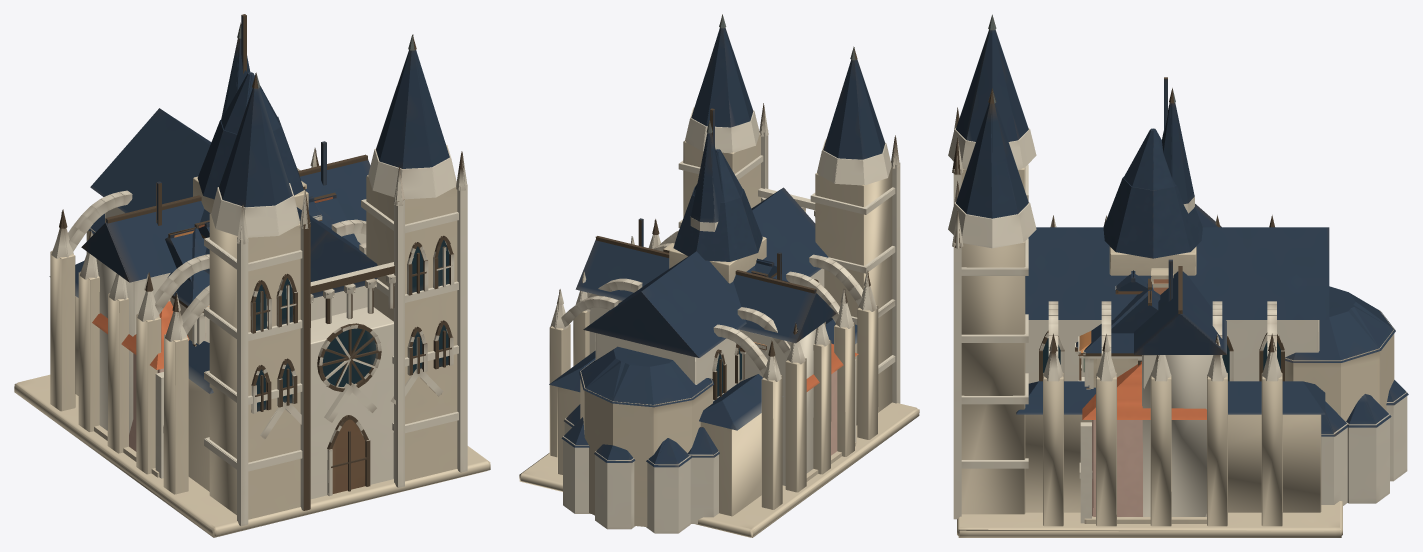
Rendered from architecture.glb.
3 renders of one model, left to right at view 1: azimuth 30°, elevation 25°; view 2: azimuth 150°, elevation 25°; view 3: azimuth 270°, elevation 25°, orthographic. The views are drawn at different scales.
Parts seen in each view (by area): view 1: cathedrale_paris_mesh, cathedrale_paris_distant_mesh, beffroi_nord_mesh, mairie_sud_mesh, maison_paris_03_dominante_distant_mesh, maison_ardoise_01_dominante_distant_mesh, mairie_sud_distant_mesh, maison_paris_03_dominante_mesh; view 2: cathedrale_paris_mesh, cathedrale_paris_distant_mesh, beffroi_nord_mesh, mairie_sud_mesh; view 3: cathedrale_paris_distant_mesh, cathedrale_paris_mesh, beffroi_nord_mesh, mairie_sud_mesh, maison_paris_03_dominante_distant_mesh, maison_paris_03_dominante_mesh, mairie_sud_distant_mesh, beffroi_nord_distant_mesh, maison_ardoise_01_dominante_mesh, maison_ardoise_01_dominante_distant_mesh.
Boxes of the visible parts, x1,y1,x2,y2 form: cathedrale_paris_mesh: (15,14,489,536); cathedrale_paris_distant_mesh: (14,34,490,537); beffroi_nord_mesh: (193,72,308,213); mairie_sud_mesh: (92,301,189,478); maison_paris_03_dominante_distant_mesh: (167,196,360,339); maison_ardoise_01_dominante_distant_mesh: (165,192,357,281); mairie_sud_distant_mesh: (94,369,163,477); maison_paris_03_dominante_mesh: (169,181,322,346); cathedrale_paris_mesh: (520,14,918,537); cathedrale_paris_distant_mesh: (519,14,919,537); beffroi_nord_mesh: (669,149,766,283); mairie_sud_mesh: (806,343,858,477); cathedrale_paris_distant_mesh: (948,88,1408,537); cathedrale_paris_mesh: (948,15,1408,536); beffroi_nord_mesh: (1103,128,1202,275); mairie_sud_mesh: (1079,361,1206,523); maison_paris_03_dominante_distant_mesh: (1084,270,1168,376); maison_paris_03_dominante_mesh: (1083,268,1168,389); mairie_sud_distant_mesh: (1080,426,1205,523); beffroi_nord_distant_mesh: (1110,130,1196,274); maison_ardoise_01_dominante_mesh: (1111,279,1157,333); maison_ardoise_01_dominante_distant_mesh: (1111,290,1158,332).
Bounding box in the file's own units: 1.92 × 2.9 × 2.86.
Materials: 3 (3 with a texture image).
